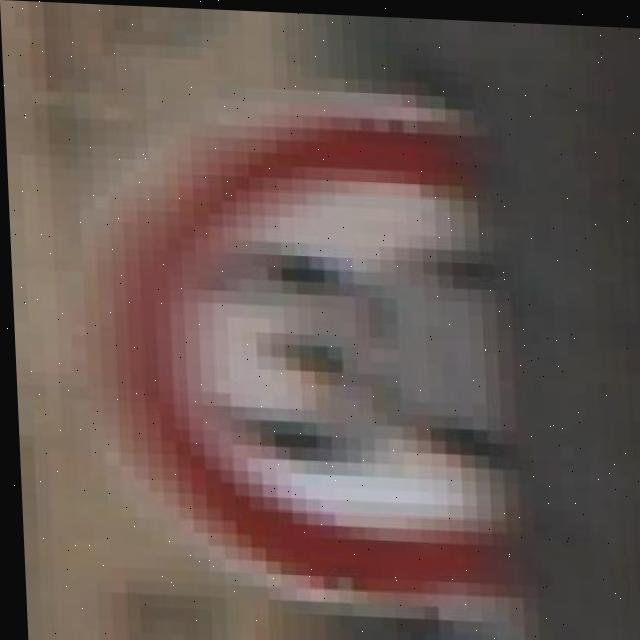Speed limit 30: (85, 72, 540, 608)
